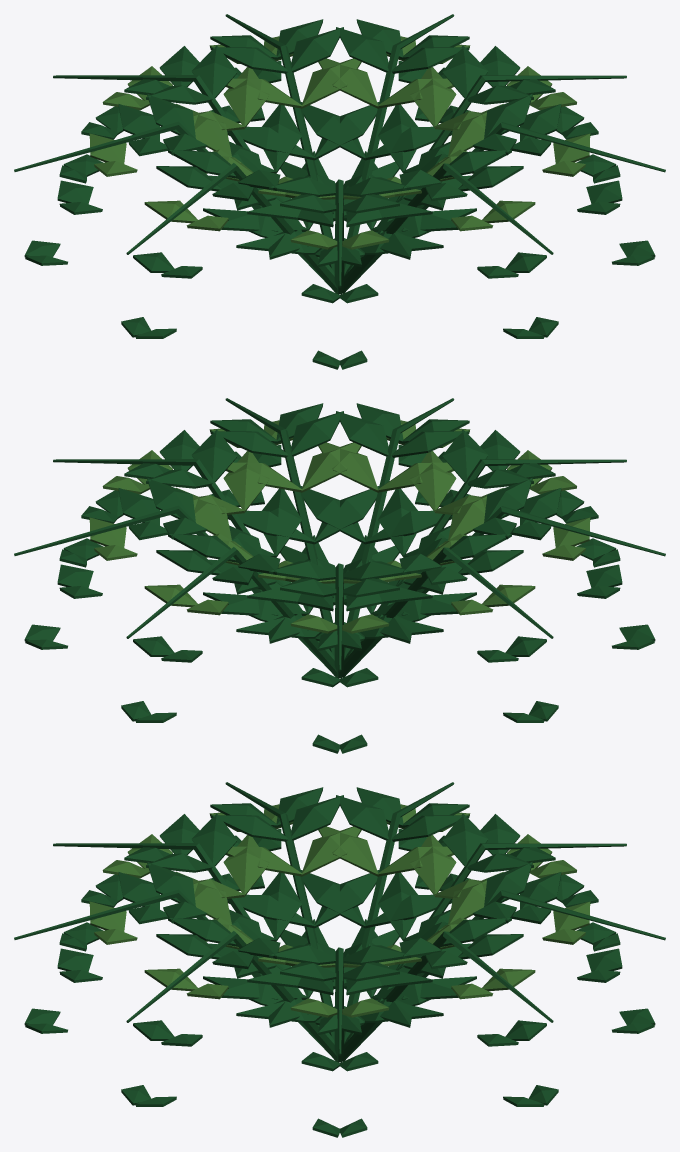
Rendered from Samambaia_LOD0.fbx.
3 views of the same model, one above another, from view 1: azimuth 30°, elevation 25°; view 2: azimuth 150°, elevation 25°; view 3: azimuth 270°, elevation 25° (orthographic).
Parts seen in each view (by area): view 1: Samambaia_LOD0; view 2: Samambaia_LOD0; view 3: Samambaia_LOD0.
Boxes of the visible parts, box(x1,y1,x2,y2) form: Samambaia_LOD0: box(14, 14, 665, 369); Samambaia_LOD0: box(14, 398, 665, 753); Samambaia_LOD0: box(14, 782, 665, 1137).
Size of the model in its own units: 175 by 55.44 by 177.
1 material, 1 textured.
